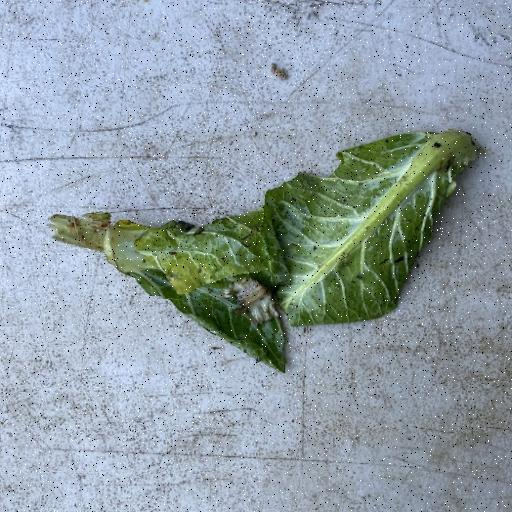Waste: (46, 126, 483, 374)
